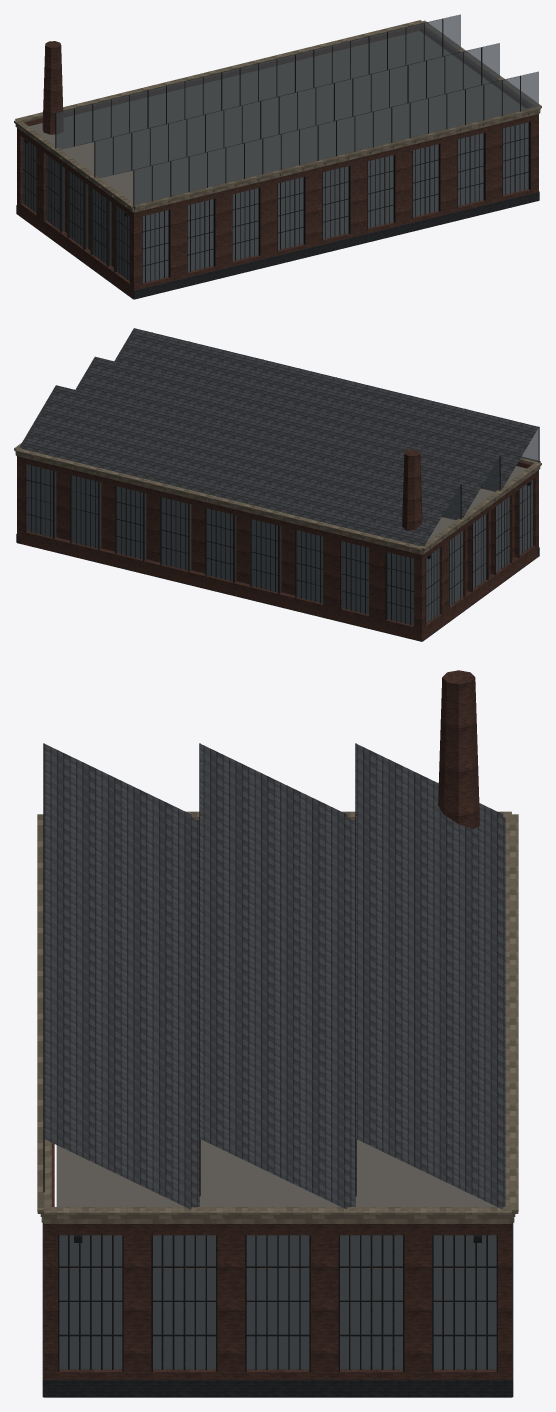
Rendered from B_boiler_shop.glb.
3 views of the same model, one above another, from view 1: azimuth 30°, elevation 25°; view 2: azimuth 150°, elevation 25°; view 3: azimuth 270°, elevation 25° (orthographic). The views are drawn at different scales.
Visible parts, largest first — view 1: B_boiler_shop; view 2: B_boiler_shop; view 3: B_boiler_shop.
Boxes of the visible parts, <box> form: B_boiler_shop: <box>14,14,541,299</box>; B_boiler_shop: <box>14,328,541,641</box>; B_boiler_shop: <box>37,670,518,1397</box>.
Size of the model in its own units: 44.64 by 18 by 22.64.
7 materials, 5 textured.
